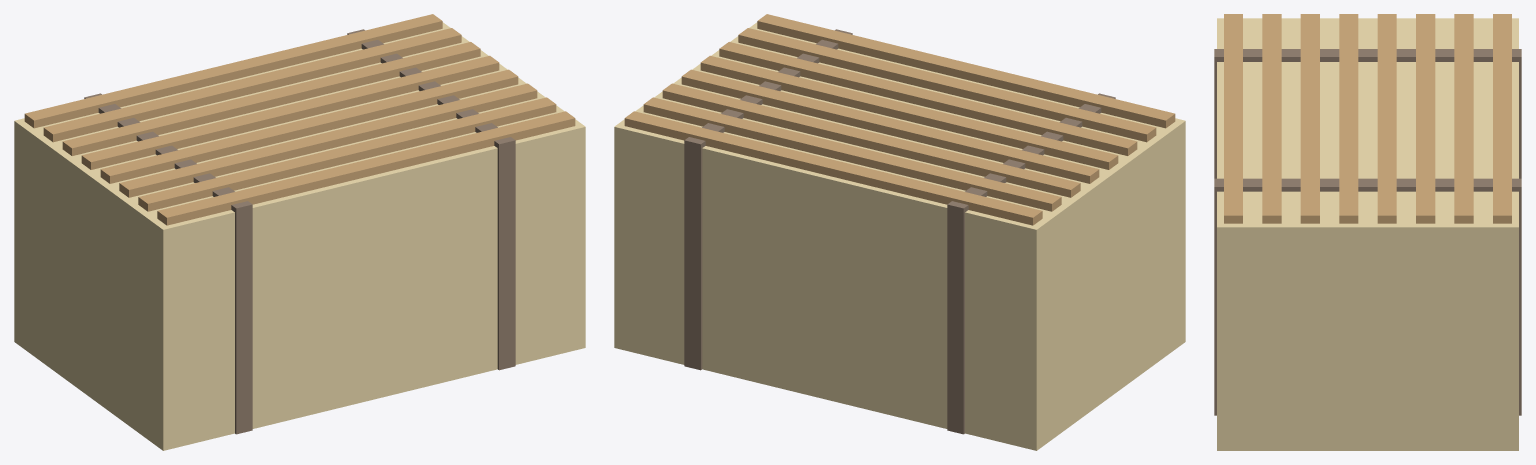
The model's file is harvest-hearth-bound-rectangular-hay-bale__59.glb.
3 renders of one model, left to right at view 1: azimuth 30°, elevation 25°; view 2: azimuth 150°, elevation 25°; view 3: azimuth 270°, elevation 25°, orthographic.
Visible parts, largest first — view 1: harvest-hearth-hay-bale; view 2: harvest-hearth-hay-bale; view 3: harvest-hearth-hay-bale.
Part boxes in pixels (x1,y1,x2,y2): harvest-hearth-hay-bale: (14,14,585,450); harvest-hearth-hay-bale: (614,14,1185,450); harvest-hearth-hay-bale: (1214,14,1521,450).
Size of the model in its own units: 0.9 by 0.466 by 0.56.
